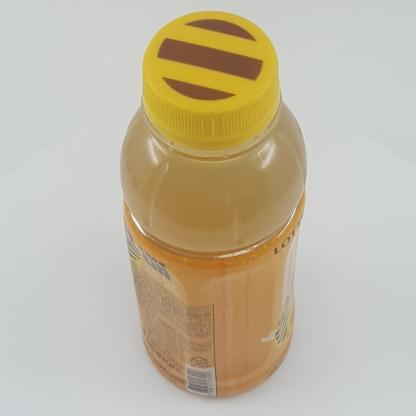--------380ML: (120, 11, 307, 398)
